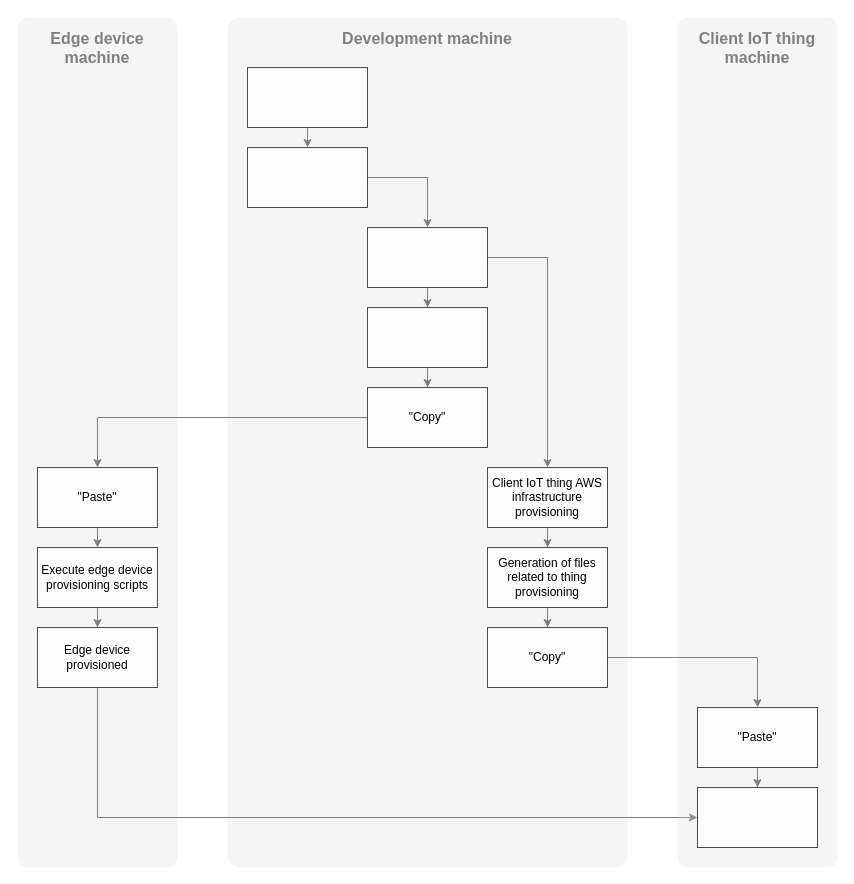
Image size: 854x884. Some labels were removed from this diagram. Each missing label, with the centre of its shape:
"Generation of edge device provisioning scripts" goes at (427,337).
"Global AWS infrastructure provisioning" goes at (307,177).
"Greengrass core AWS infrastructure provisioning" goes at (427,257).
"Provision client IoT thing" goes at (757,817).
"Specifying configuration" goes at (307,97).
